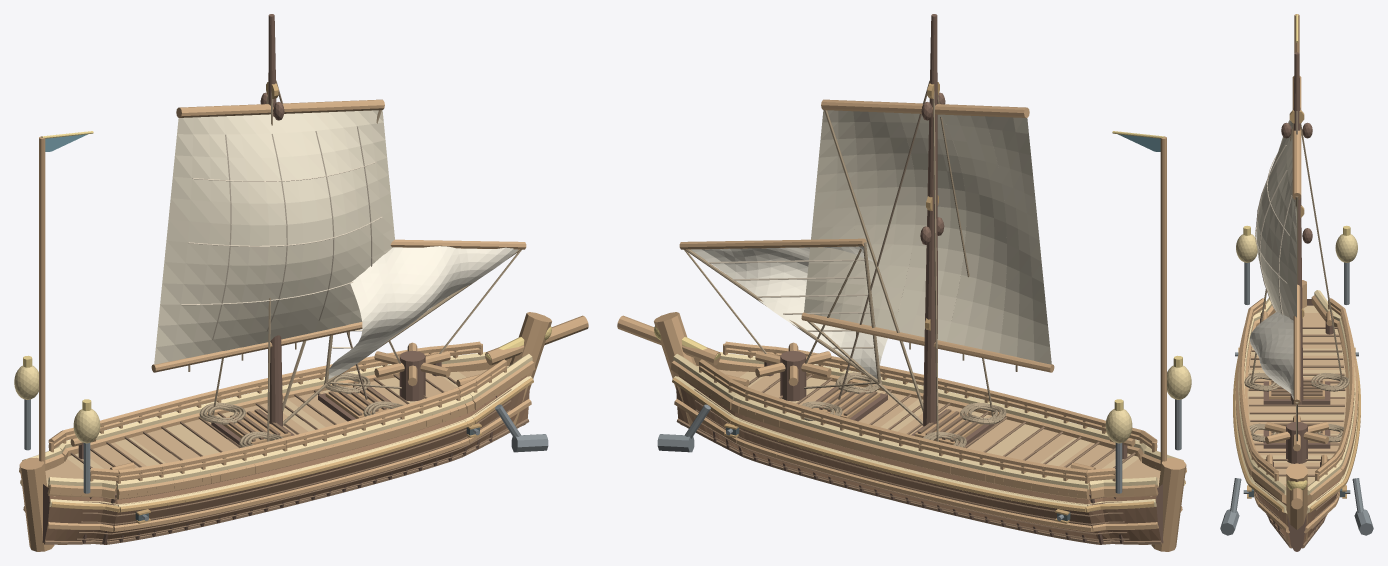
The model's file is bermuda_sloop-v5.glb.
The picture shows the model from 3 angles, left to right: view 1: azimuth 30°, elevation 25°; view 2: azimuth 150°, elevation 25°; view 3: azimuth 270°, elevation 25°; orthographic projection. The views are drawn at different scales.
Parts seen in each view (by area): view 1: bermuda_sloop_sails_sail, bermuda_sloop_hull_wood, bermuda_sloop_sails_sailbright, bermuda_sloop_railings_wood, bermuda_sloop_hull_pale, bermuda_sloop_hull_seam, bermuda_sloop_hull_hull2, bermuda_sloop_hull_hull, bermuda_sloop_hull_deck, bermuda_sloop_rigging_wood, bermuda_sloop_hull_bronze, bermuda_sloop_fittings_wood (+11 smaller); view 2: bermuda_sloop_sails_sail, bermuda_sloop_hull_wood, bermuda_sloop_railings_wood, bermuda_sloop_hull_pale, bermuda_sloop_hull_seam, bermuda_sloop_sails_sailbright, bermuda_sloop_rigging_wood, bermuda_sloop_hull_hull2, bermuda_sloop_hull_hull, bermuda_sloop_hull_deck, bermuda_sloop_masts_darkwood, bermuda_sloop_rigging_rope (+13 smaller); view 3: bermuda_sloop_sails_sail, bermuda_sloop_hull_wood, bermuda_sloop_hull_deck, bermuda_sloop_railings_wood, bermuda_sloop_hull_seam, bermuda_sloop_sails_sailbright, bermuda_sloop_hull_pale, bermuda_sloop_hull_decklight, bermuda_sloop_fittings_iron, bermuda_sloop_fittings_darkwood, bermuda_sloop_rigging_wood, bermuda_sloop_masts_darkwood (+13 smaller).
Boxes of the visible parts, left/top/right/bottom form: bermuda_sloop_sails_sail: left=154, top=110, right=394, bottom=364; bermuda_sloop_hull_wood: left=19, top=312, right=588, bottom=551; bermuda_sloop_sails_sailbright: left=328, top=246, right=517, bottom=379; bermuda_sloop_railings_wood: left=48, top=341, right=506, bottom=493; bermuda_sloop_hull_pale: left=21, top=352, right=532, bottom=511; bermuda_sloop_hull_seam: left=44, top=374, right=529, bottom=544; bermuda_sloop_hull_hull2: left=45, top=375, right=528, bottom=541; bermuda_sloop_hull_hull: left=43, top=385, right=529, bottom=542; bermuda_sloop_hull_deck: left=45, top=369, right=487, bottom=480; bermuda_sloop_rigging_wood: left=151, top=99, right=526, bottom=372; bermuda_sloop_hull_bronze: left=20, top=377, right=533, bottom=512; bermuda_sloop_fittings_wood: left=70, top=342, right=479, bottom=470; bermuda_sloop_sails_sail: left=804, top=110, right=1051, bottom=364; bermuda_sloop_hull_wood: left=617, top=312, right=1186, bottom=551; bermuda_sloop_railings_wood: left=699, top=341, right=1157, bottom=493; bermuda_sloop_hull_pale: left=673, top=352, right=1184, bottom=511; bermuda_sloop_hull_seam: left=676, top=374, right=1161, bottom=544; bermuda_sloop_sails_sailbright: left=691, top=246, right=887, bottom=378; bermuda_sloop_rigging_wood: left=679, top=99, right=1054, bottom=372; bermuda_sloop_hull_hull2: left=677, top=375, right=1160, bottom=541; bermuda_sloop_hull_hull: left=676, top=385, right=1162, bottom=542; bermuda_sloop_hull_deck: left=718, top=369, right=1160, bottom=480; bermuda_sloop_masts_darkwood: left=920, top=14, right=945, bottom=426; bermuda_sloop_rigging_rope: left=684, top=110, right=1017, bottom=425; bermuda_sloop_sails_sail: left=1256, top=120, right=1296, bottom=320; bermuda_sloop_hull_wood: left=1235, top=280, right=1358, bottom=541; bermuda_sloop_hull_deck: left=1247, top=313, right=1346, bottom=485; bermuda_sloop_railings_wood: left=1239, top=298, right=1354, bottom=481; bermuda_sloop_hull_seam: left=1248, top=327, right=1345, bottom=548; bermuda_sloop_sails_sailbright: left=1249, top=312, right=1293, bottom=399; bermuda_sloop_hull_pale: left=1235, top=290, right=1358, bottom=513; bermuda_sloop_hull_decklight: left=1247, top=305, right=1346, bottom=483; bermuda_sloop_fittings_iron: left=1220, top=262, right=1373, bottom=535; bermuda_sloop_fittings_darkwood: left=1260, top=318, right=1333, bottom=466; bermuda_sloop_rigging_wood: left=1292, top=76, right=1301, bottom=404; bermuda_sloop_masts_darkwood: left=1281, top=52, right=1312, bottom=404.
Bounding box in the file's own units: 33.39 × 27.09 × 9.37.
